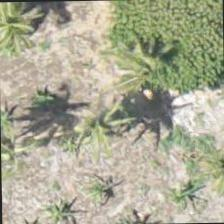Kelapa_Sawit: (108, 16, 200, 108), (48, 84, 140, 176), (0, 104, 62, 196), (0, 1, 66, 72)
